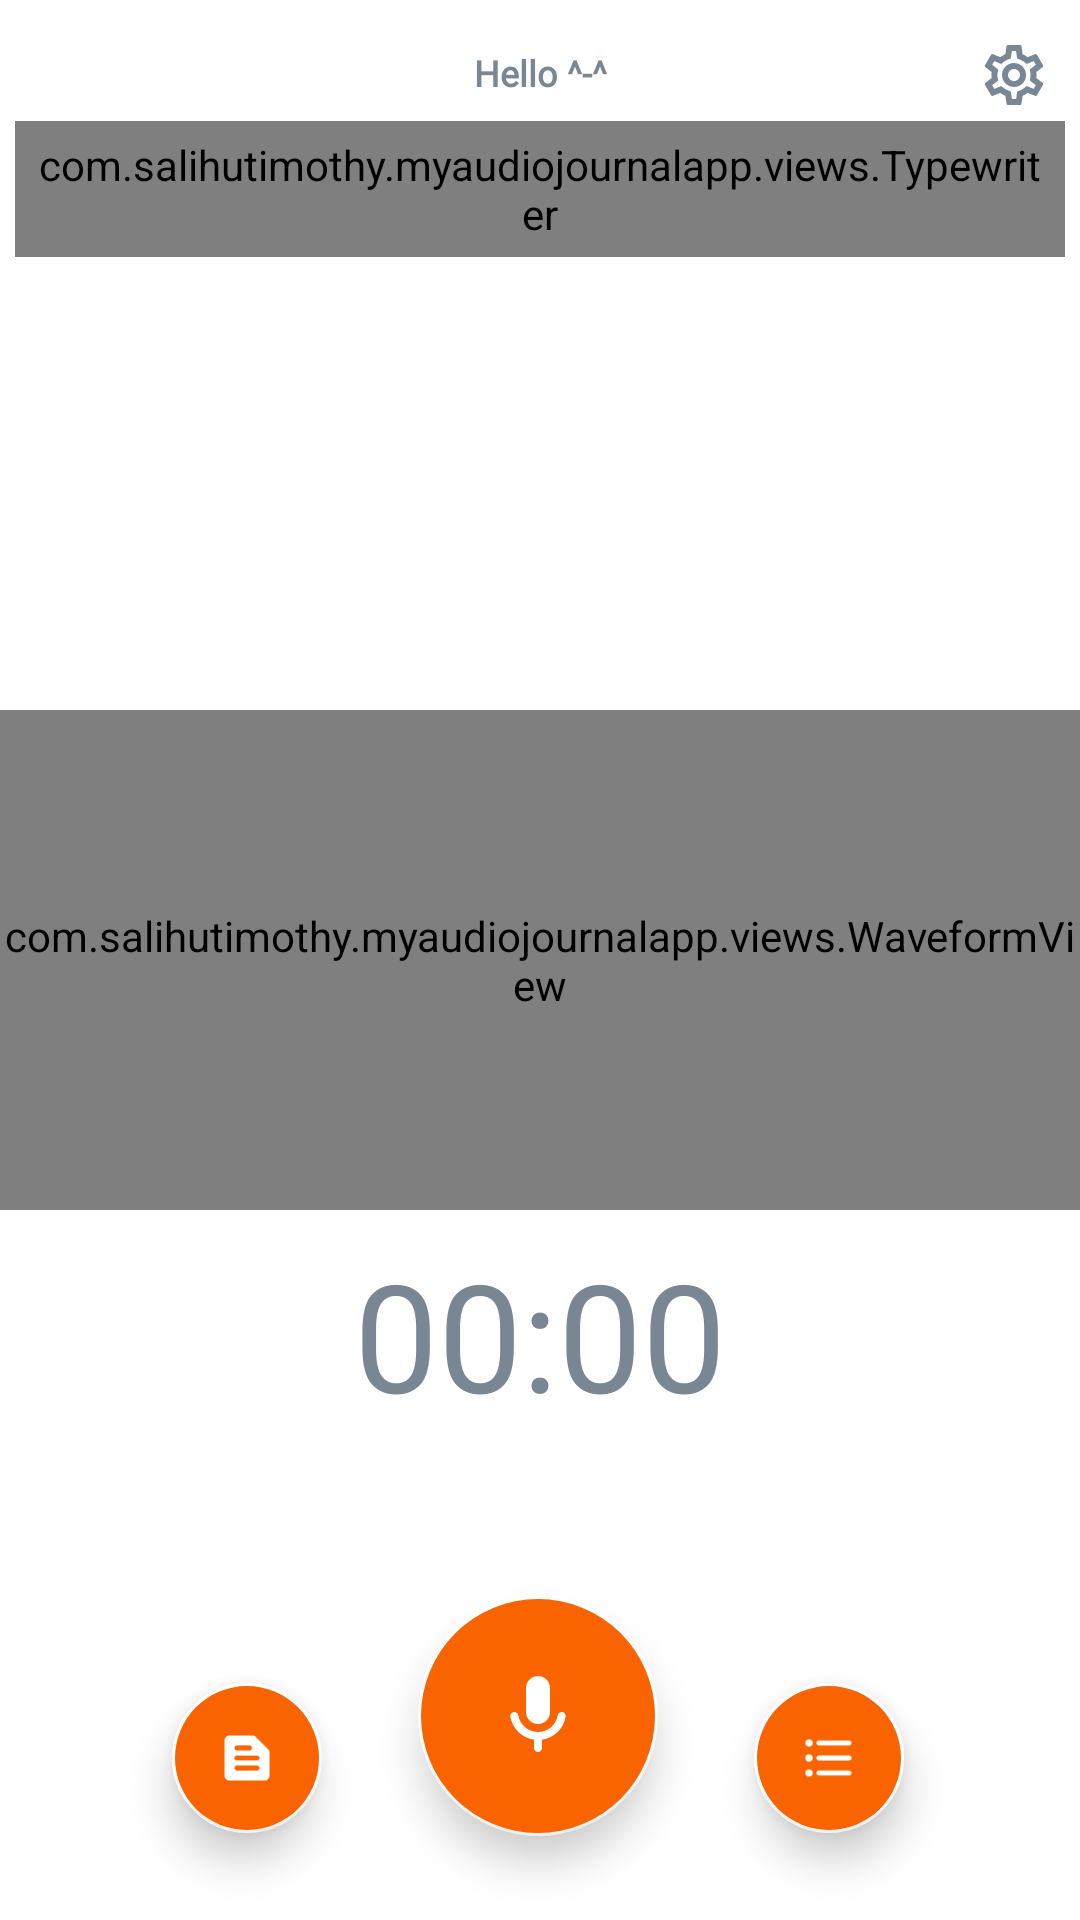

Point at icon controls on the screen. Image size 1080px×1920px, points as (x=x, y=y).
list: (x=829, y=1758)
mic: (x=538, y=1716)
